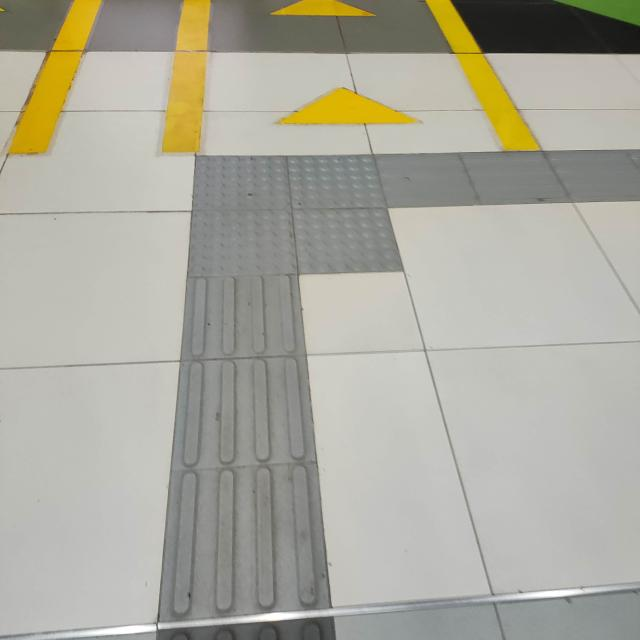kanan: (129, 111, 574, 301)
